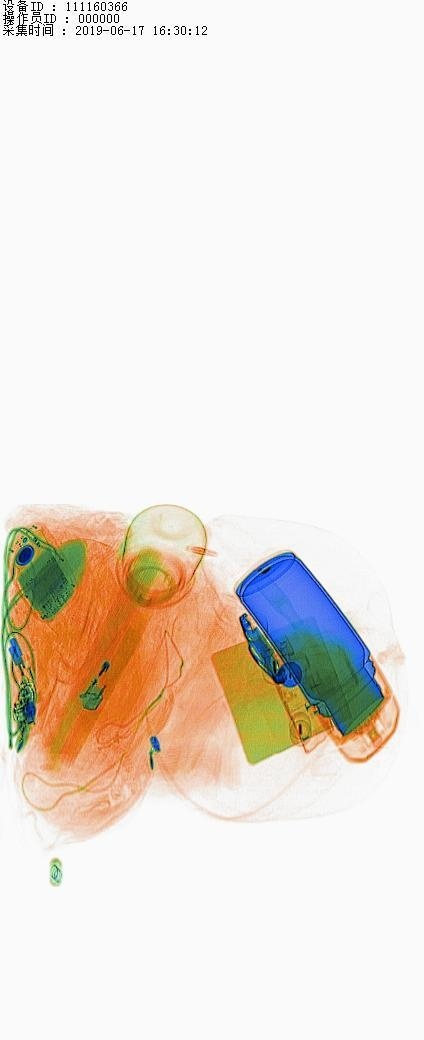NonmetallicFire: (65, 616, 161, 730)
